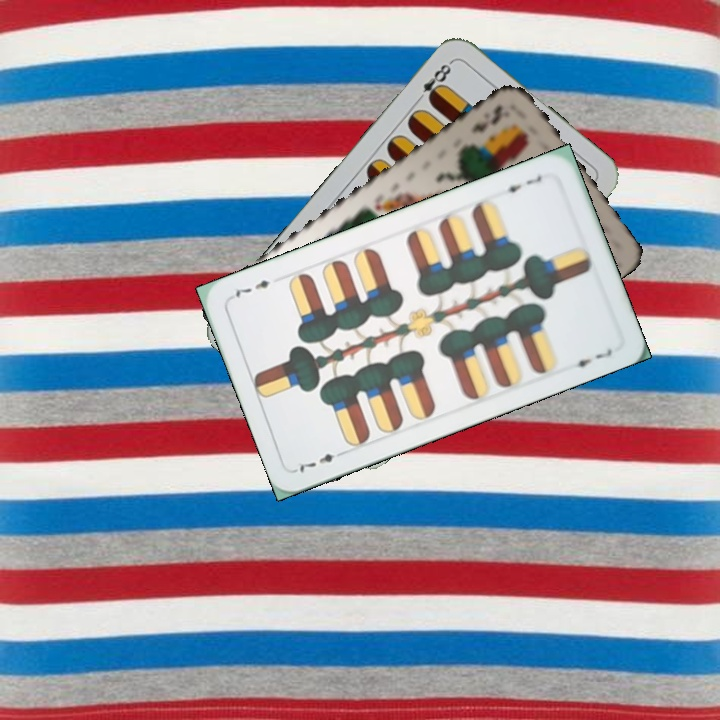E7: (292, 446, 348, 476), (496, 171, 545, 196)
E8: (412, 57, 455, 106)
EK: (467, 100, 513, 136)
